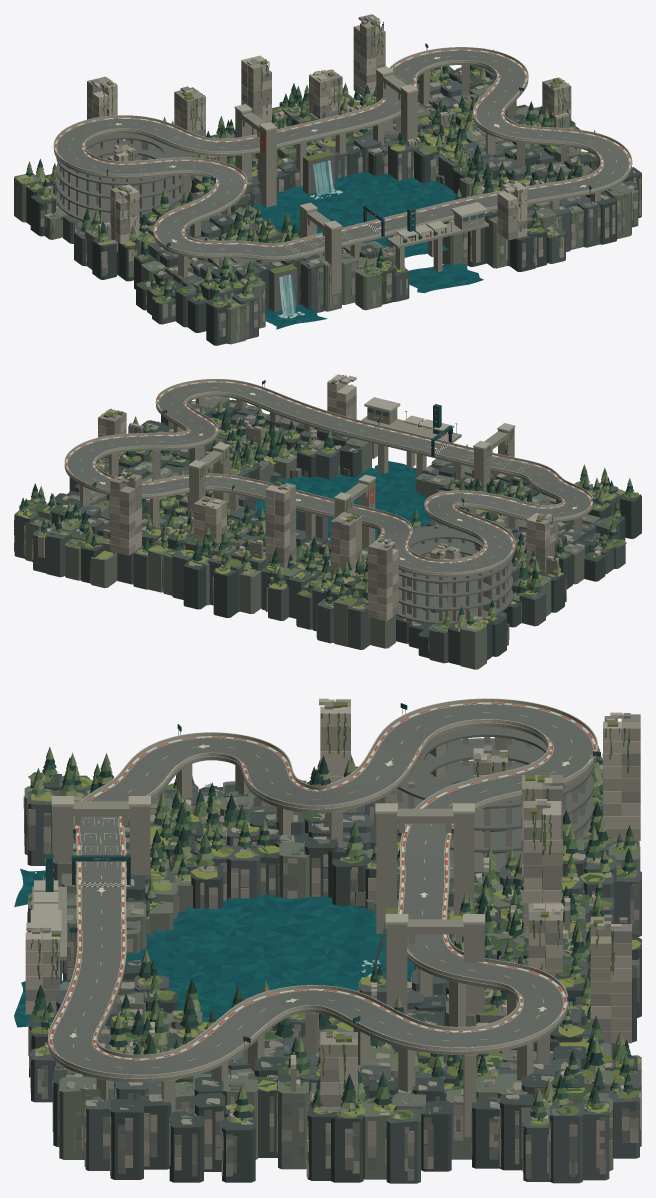
The model's file is 034_ruins_circuit_v01.glb.
3 renders of one model, top to bottom at view 1: azimuth 30°, elevation 25°; view 2: azimuth 150°, elevation 25°; view 3: azimuth 270°, elevation 25°, orthographic. The views are drawn at different scales.
Visible parts, largest first — view 1: TRACK_RACE_SURFACE_12m, ENV_Cliff_Mass__rock_dark, ENV_Cliff_Mass__rock, ENV_Cliff_Mass__rock_light, ENV_Lagoon__water, ENV_Circular_Ruin__concrete_dark, ENV_Brutalist_Towers__concrete_light, ENV_Brutalist_Towers__concrete_warm, Continuous_parapet_-1, ENV_Brutalist_Towers__concrete, Continuous_parapet_1, TRACK_STRUCTURAL_DECK (+31 smaller); view 2: ENV_Cliff_Mass__rock, TRACK_RACE_SURFACE_12m, ENV_Cliff_Mass__rock_dark, ENV_Cliff_Mass__rock_light, ENV_Circular_Ruin__concrete_dark, ENV_Brutalist_Towers__concrete_warm, ENV_Brutalist_Towers__concrete_light, ENV_Brutalist_Towers__concrete, ENV_Forest__pine_tip, Continuous_parapet_-1, ENV_Forest__pine, Continuous_parapet_1 (+25 smaller); view 3: TRACK_RACE_SURFACE_12m, ENV_Cliff_Mass__rock_dark, ENV_Cliff_Mass__rock, ENV_Cliff_Mass__rock_light, ENV_Lagoon__water, ENV_Brutalist_Towers__concrete_light, ENV_Brutalist_Towers__concrete_warm, ENV_Circular_Ruin__concrete_dark, ENV_Forest__pine_tip, ENV_Forest__pine_deep, ENV_Forest__pine, Continuous_parapet_-1 (+41 smaller).
Boxes of the visible parts, left/top/right/bottom form: TRACK_RACE_SURFACE_12m: left=56, top=50, right=629, bottom=256; ENV_Cliff_Mass__rock_dark: left=26, top=68, right=641, bottom=345; ENV_Cliff_Mass__rock: left=46, top=65, right=638, bottom=339; ENV_Cliff_Mass__rock_light: left=14, top=67, right=631, bottom=344; ENV_Lagoon__water: left=253, top=172, right=479, bottom=326; ENV_Circular_Ruin__concrete_dark: left=56, top=133, right=191, bottom=223; ENV_Brutalist_Towers__concrete_light: left=93, top=51, right=571, bottom=243; ENV_Brutalist_Towers__concrete_warm: left=87, top=21, right=571, bottom=232; Continuous_parapet_-1: left=53, top=47, right=632, bottom=258; ENV_Brutalist_Towers__concrete: left=87, top=14, right=571, bottom=240; Continuous_parapet_1: left=84, top=60, right=601, bottom=245; TRACK_STRUCTURAL_DECK: left=54, top=50, right=631, bottom=261; ENV_Cliff_Mass__rock: left=14, top=400, right=625, bottom=663; TRACK_RACE_SURFACE_12m: left=67, top=382, right=590, bottom=572; ENV_Cliff_Mass__rock_dark: left=50, top=399, right=641, bottom=665; ENV_Cliff_Mass__rock_light: left=25, top=396, right=625, bottom=669; ENV_Circular_Ruin__concrete_dark: left=396, top=525, right=513, bottom=624; ENV_Brutalist_Towers__concrete_warm: left=98, top=388, right=549, bottom=618; ENV_Brutalist_Towers__concrete_light: left=98, top=374, right=554, bottom=621; ENV_Brutalist_Towers__concrete: left=103, top=394, right=554, bottom=616; ENV_Forest__pine_tip: left=24, top=401, right=632, bottom=625; Continuous_parapet_-1: left=64, top=379, right=593, bottom=574; ENV_Forest__pine: left=20, top=410, right=633, bottom=614; Continuous_parapet_1: left=95, top=391, right=563, bottom=561; TRACK_RACE_SURFACE_12m: left=52, top=704, right=593, bottom=1074; ENV_Cliff_Mass__rock_dark: left=29, top=766, right=641, bottom=1182; ENV_Cliff_Mass__rock: left=27, top=775, right=641, bottom=1183; ENV_Cliff_Mass__rock_light: left=24, top=758, right=641, bottom=1179; ENV_Lagoon__water: left=14, top=870, right=414, bottom=1026; ENV_Brutalist_Towers__concrete_light: left=25, top=706, right=640, bottom=1111; ENV_Brutalist_Towers__concrete_warm: left=43, top=699, right=640, bottom=1069; ENV_Circular_Ruin__concrete_dark: left=390, top=726, right=593, bottom=874; ENV_Forest__pine_tip: left=32, top=745, right=636, bottom=1111; ENV_Forest__pine_deep: left=36, top=755, right=635, bottom=1117; ENV_Forest__pine: left=33, top=755, right=635, bottom=1118; Continuous_parapet_-1: left=48, top=698, right=597, bottom=1078.
Size of the model in its own units: 253 by 59.95 by 182.
